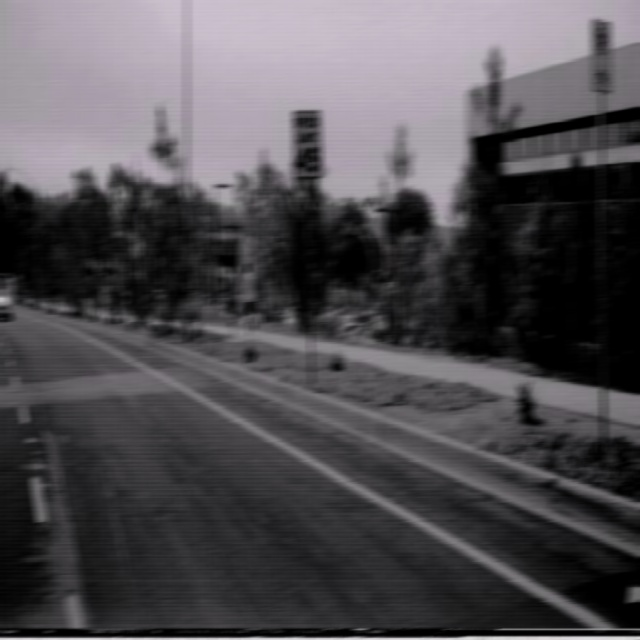speedLimit45: (292, 108, 322, 180)
